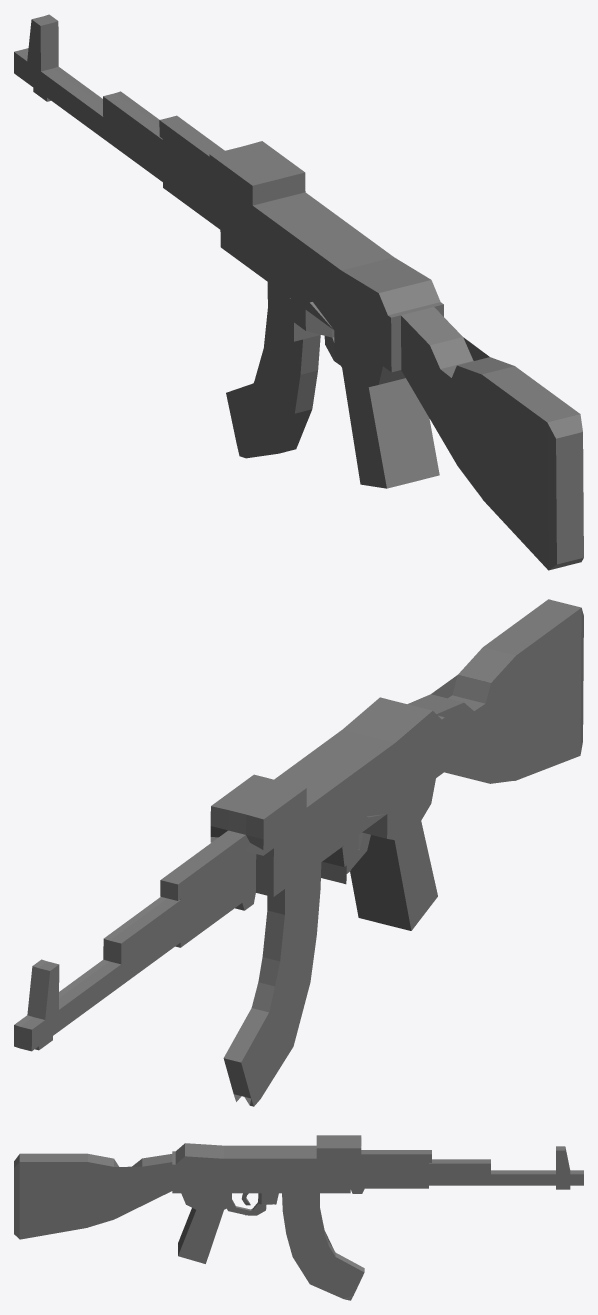
Rendered from gun6.glb.
The picture shows the model from 3 angles, top to bottom: view 1: azimuth 30°, elevation 25°; view 2: azimuth 150°, elevation 25°; view 3: azimuth 270°, elevation 25°; orthographic projection. The views are drawn at different scales.
Visible parts, largest first — view 1: node_id5; view 2: node_id5; view 3: node_id5.
Boxes of the visible parts, x1,y1,x2,y2 form: node_id5: (14, 14, 583, 570); node_id5: (14, 599, 583, 1106); node_id5: (14, 1135, 583, 1300).
Bounding box in the file's own units: 0.102 × 0.512 × 1.69.
Materials: 1 (1 with a texture image).
